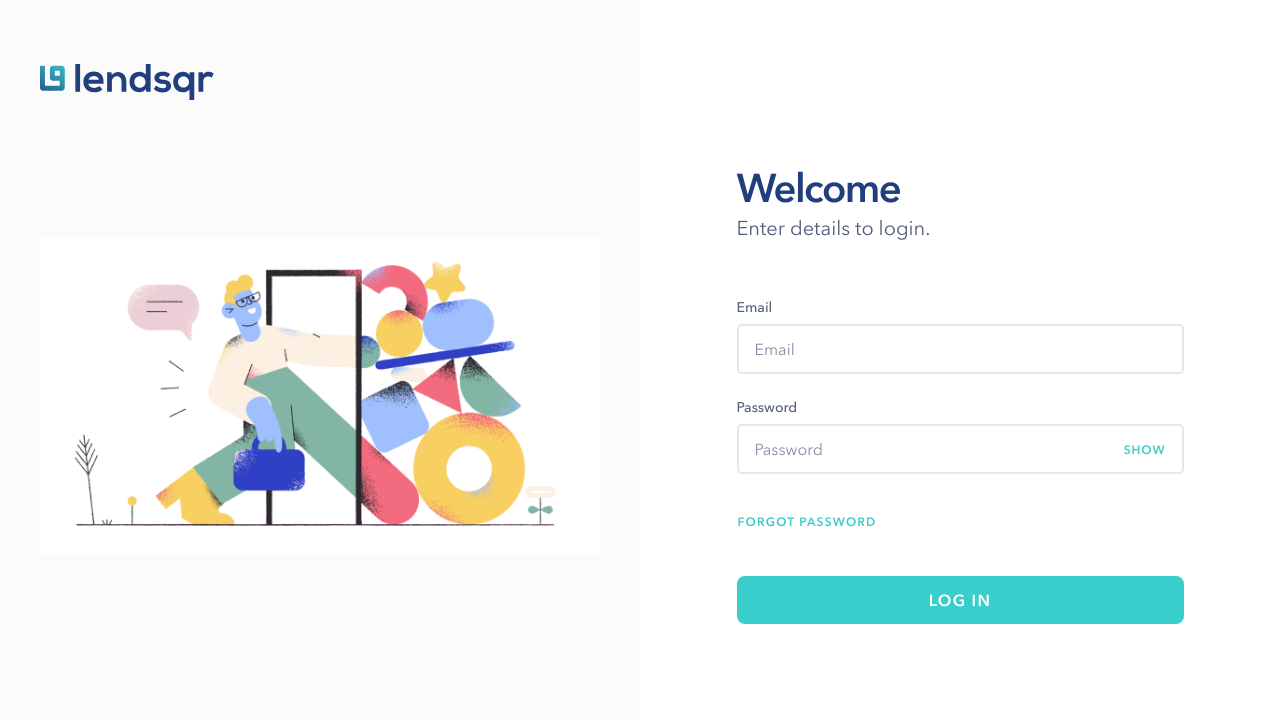
Test: LoginPage › shows email and password validation after login is clicked
Click the button "Log In". click: [960, 600]
box: x1=736 y1=576 x2=1184 y2=624
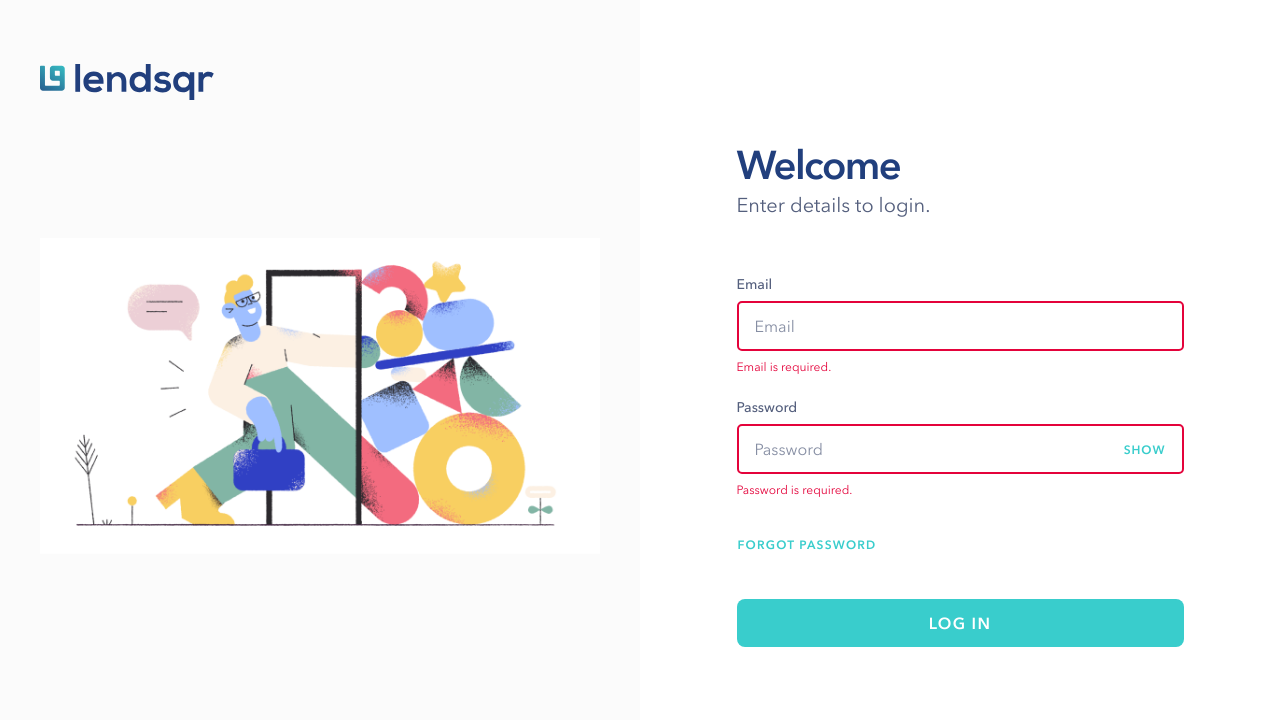
Now the text "Email is required." is shown, box x1=736 y1=359 x2=831 y2=374
Now the text "Password is required." is shown, box x1=736 y1=482 x2=852 y2=497
